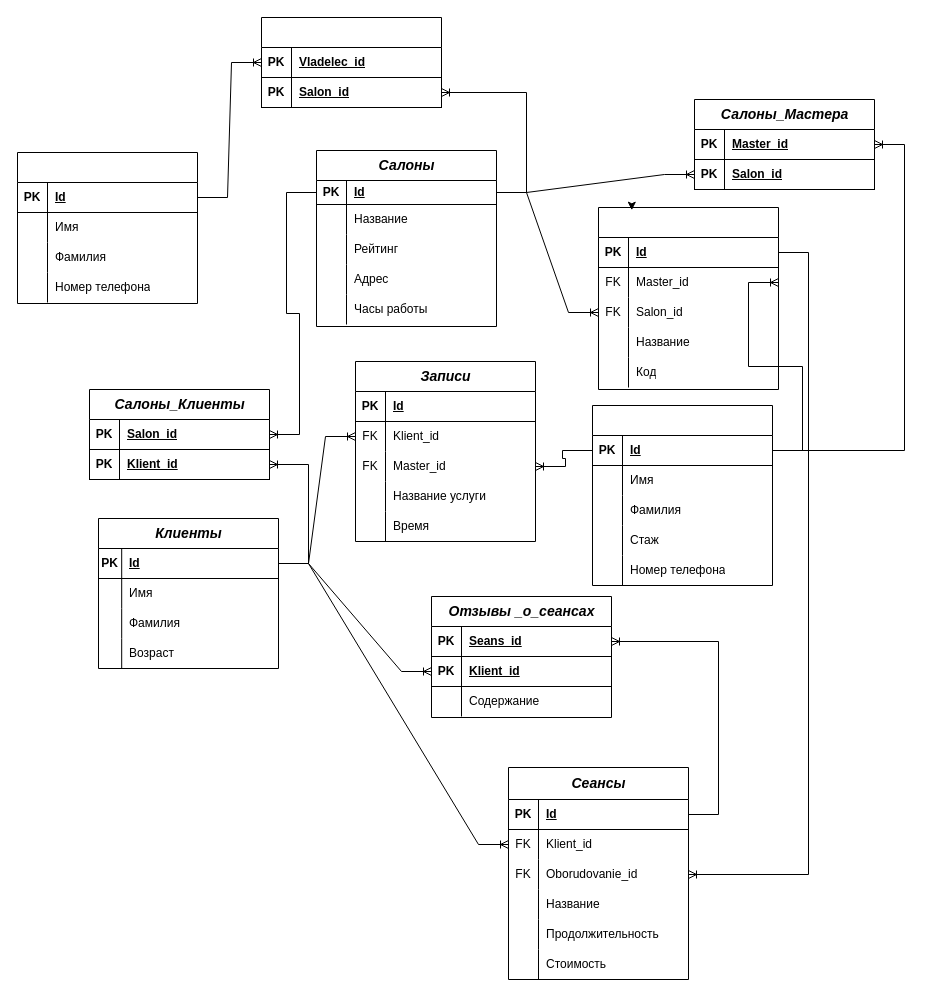
This 930x997 diagram has some shape labels left out. Each missing label, with the box of its shape:
Владельцы салонов: (16, 152, 198, 304)
Мастера: (592, 404, 772, 586)
Оборудование: (598, 206, 778, 390)
Салоны_Владельцы: (260, 16, 442, 108)
